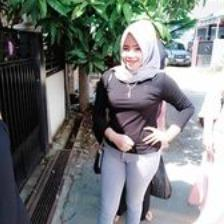Non Syar-i: (110, 19, 166, 86)
